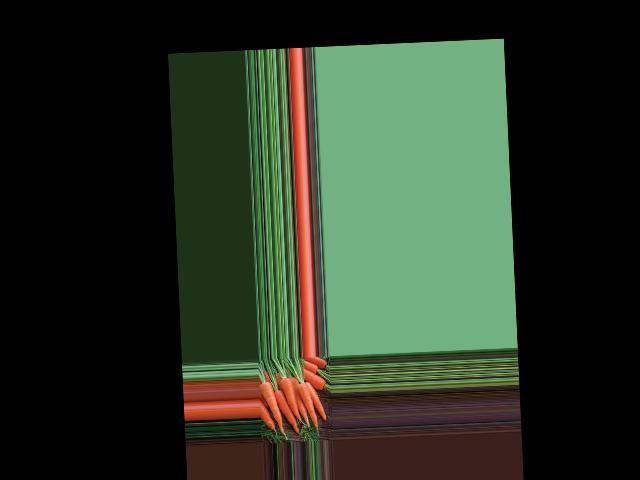carrot: (259, 376, 280, 439)
